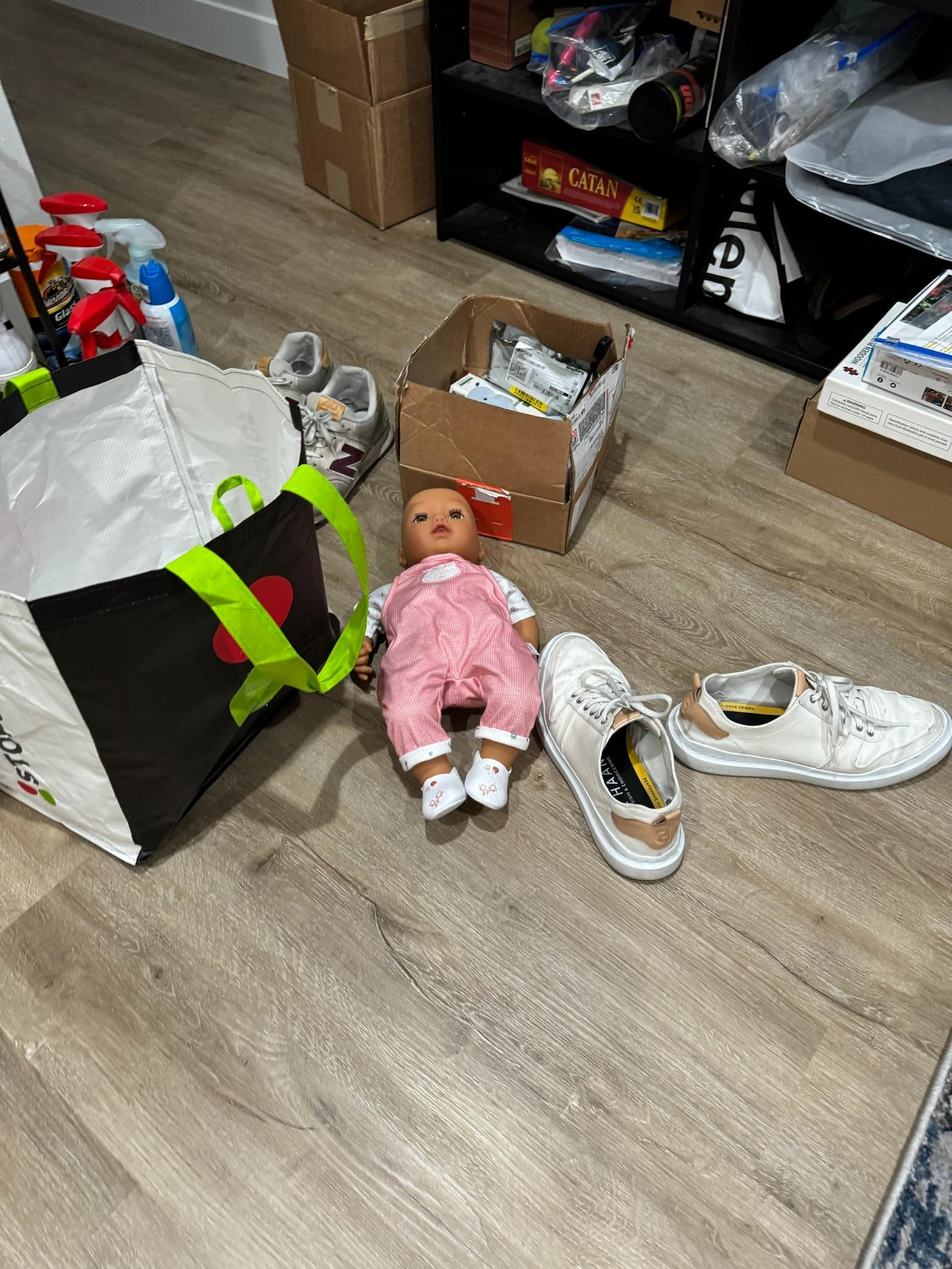baby: (343, 479, 560, 839)
